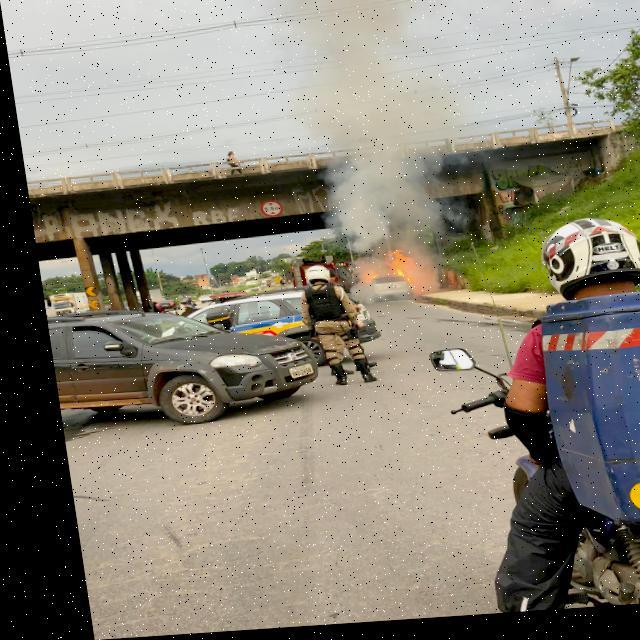Fire: (346, 256, 427, 303)
